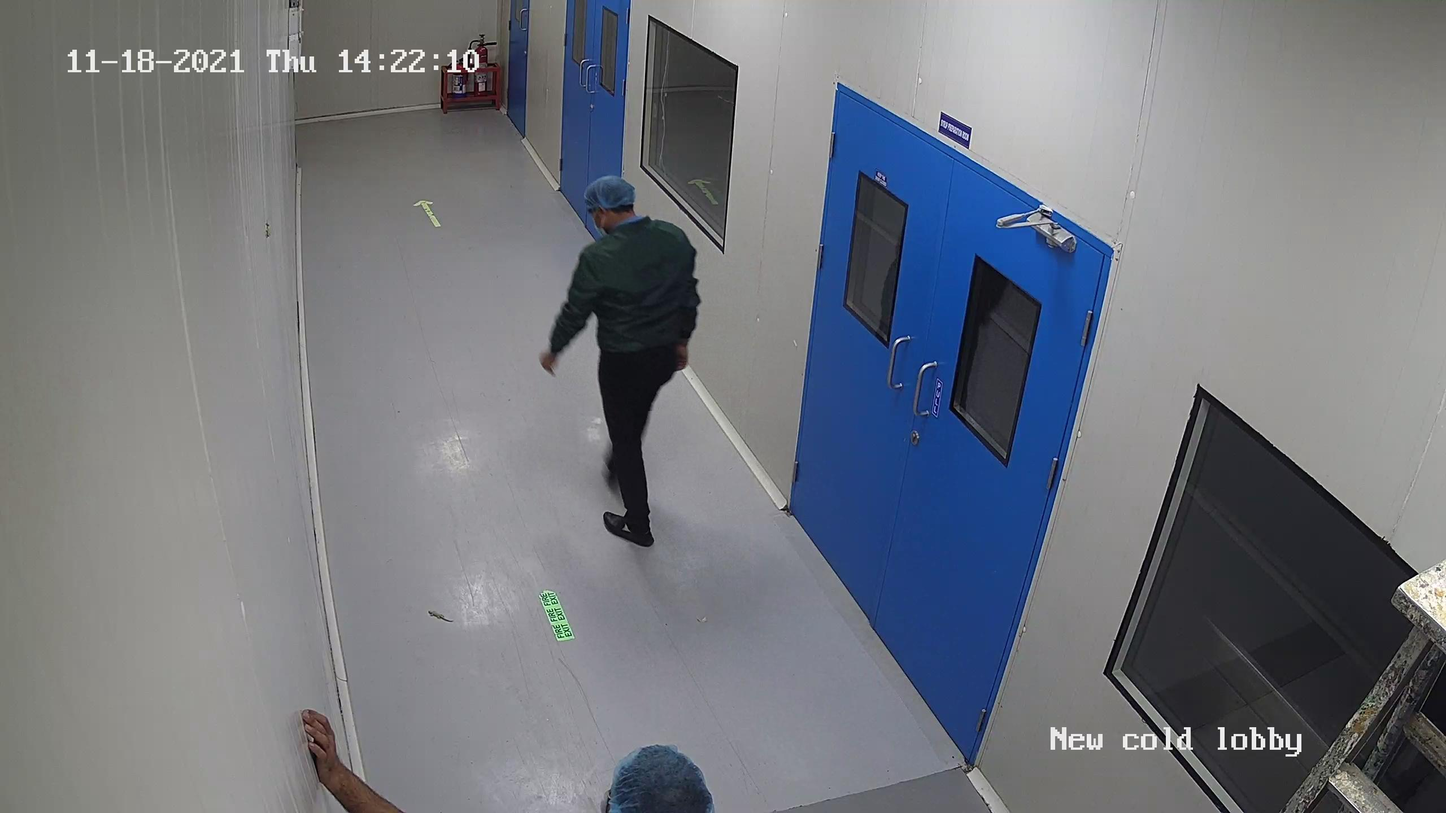lizard: (416, 603, 460, 628)
